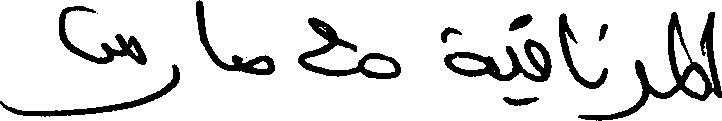X: (0, 1, 141, 120), (667, 7, 709, 105), (300, 12, 359, 81), (445, 22, 490, 81), (527, 9, 549, 109), (143, 46, 178, 108), (619, 55, 648, 120), (361, 48, 399, 83), (559, 8, 576, 85), (197, 0, 214, 67), (508, 12, 518, 110), (711, 7, 721, 102), (597, 19, 606, 120), (247, 50, 274, 79)
